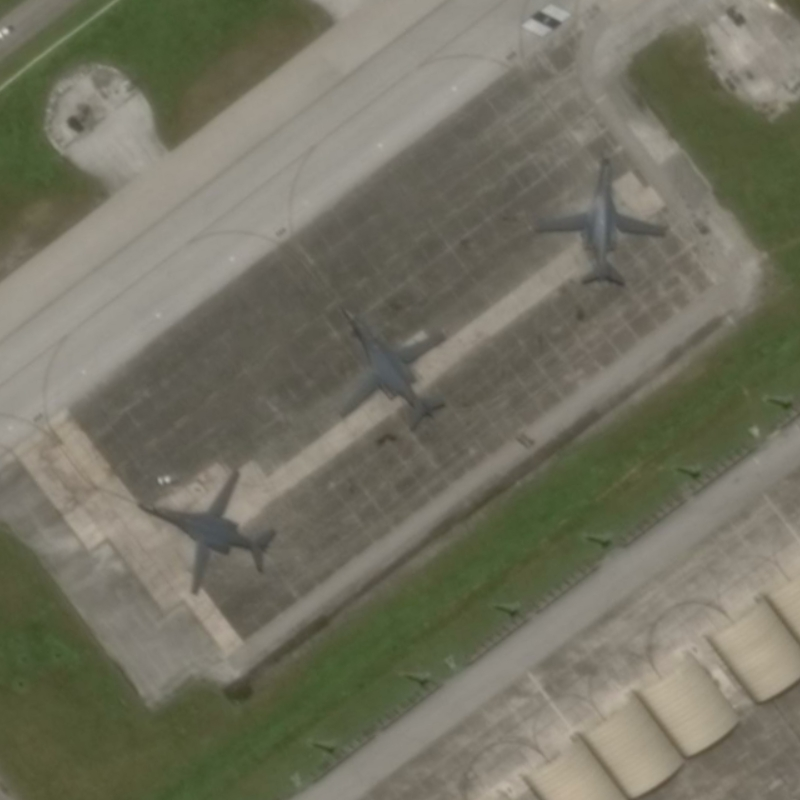A10: (523, 152, 673, 293), (133, 467, 277, 598), (330, 304, 455, 435)
